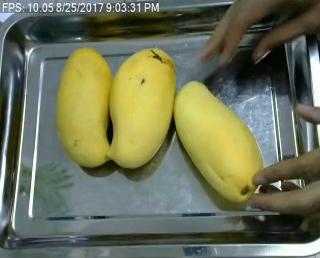Mango: (172, 78, 263, 202), (106, 47, 175, 171), (55, 45, 113, 171)
